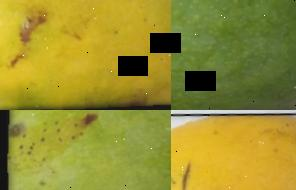PartiallyRipe: (0, 0, 171, 110)
Ripe: (171, 110, 296, 190)
Unripe: (171, 0, 296, 110), (0, 110, 171, 190)
